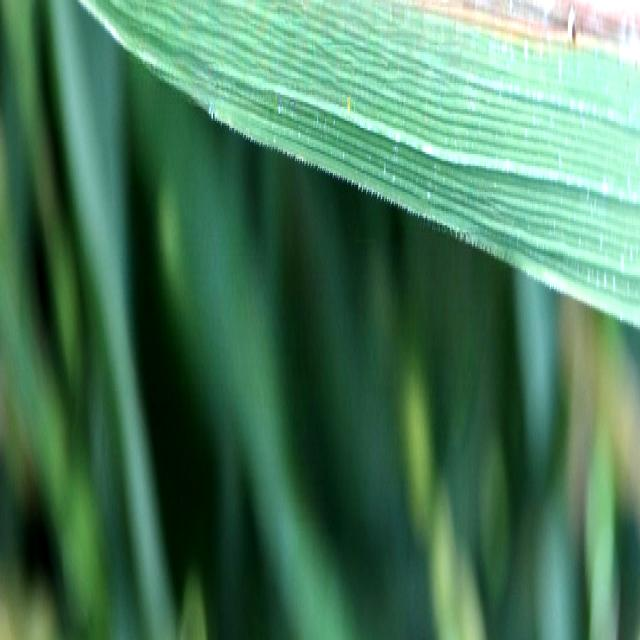BLB: (403, 0, 639, 61)
